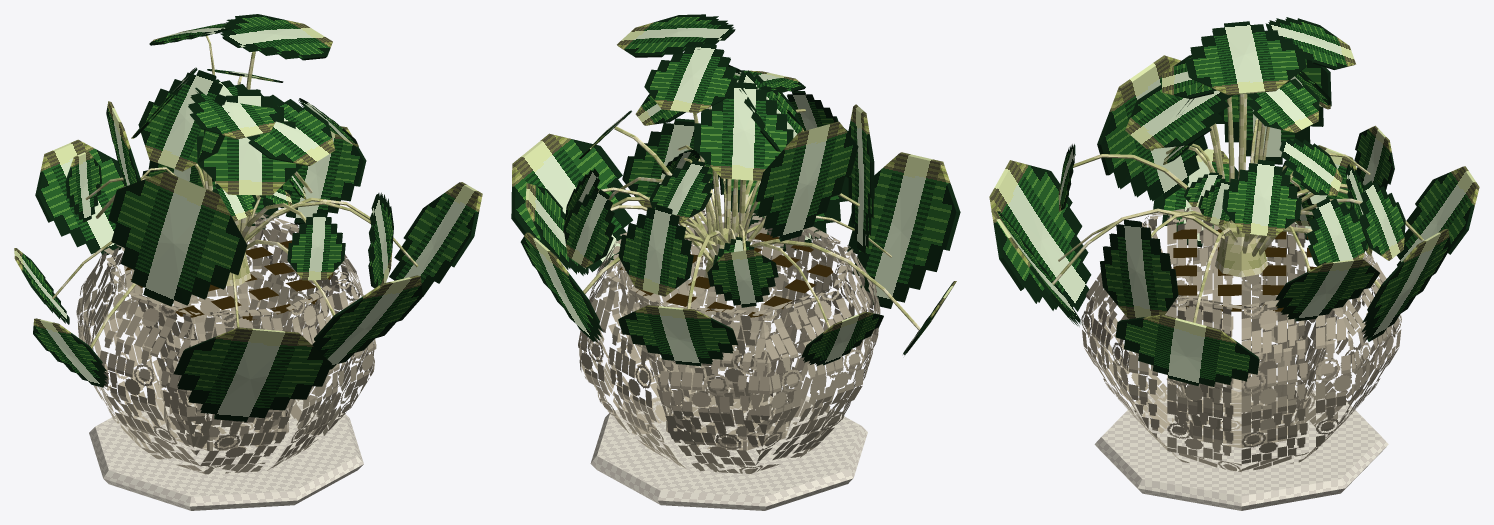
The model's file is pilea.obj.
3 renders of one model, left to right at view 1: azimuth 30°, elevation 25°; view 2: azimuth 150°, elevation 25°; view 3: azimuth 270°, elevation 25°, orthographic. The views are drawn at different scales.
Visible parts, largest first — view 1: Pot, Saucer, Leaf_010, Leaf_026, Leaf_014, Leaf_004, Leaf_025, Leaf_009, Leaf_006, Leaf_016, Leaf_000, Leaf_007 (+12 smaller); view 2: Pot, Saucer, Leaf_026, Leaf_022, Leaf_003, Leaf_014, Leaf_025, Leaf_030, Leaf_002, Leaf_000, Leaf_017, Leaf_008 (+14 smaller); view 3: Pot, Saucer, Leaf_026, Leaf_014, Leaf_000, Leaf_010, Leaf_008, Leaf_021, Leaf_007, Leaf_016, Leaf_025, Leaf_018 (+19 smaller).
Part boxes in pixels (<box>): Pot: <box>76,212,376,474</box>; Saucer: <box>89,391,363,510</box>; Leaf_010: <box>108,171,247,306</box>; Leaf_026: <box>173,327,331,421</box>; Leaf_014: <box>389,182,482,296</box>; Leaf_004: <box>138,70,229,171</box>; Leaf_025: <box>35,139,125,254</box>; Leaf_009: <box>312,275,422,369</box>; Leaf_006: <box>197,89,302,195</box>; Leaf_016: <box>281,126,366,224</box>; Leaf_000: <box>220,14,332,60</box>; Leaf_007: <box>247,94,335,165</box>; Pot: <box>578,210,880,473</box>; Saucer: <box>590,386,867,510</box>; Leaf_026: <box>847,152,960,308</box>; Leaf_022: <box>756,121,858,241</box>; Leaf_003: <box>693,82,793,180</box>; Leaf_014: <box>511,133,632,272</box>; Leaf_025: <box>618,305,737,366</box>; Leaf_030: <box>618,204,693,296</box>; Leaf_002: <box>644,43,737,113</box>; Leaf_000: <box>617,14,735,57</box>; Leaf_017: <box>707,249,778,307</box>; Leaf_008: <box>622,118,719,207</box>; Pot: <box>1081,207,1401,472</box>; Saucer: <box>1094,382,1388,510</box>; Leaf_026: <box>989,160,1091,311</box>; Leaf_014: <box>1115,314,1259,386</box>; Leaf_000: <box>1185,21,1306,95</box>; Leaf_010: <box>1097,55,1207,201</box>; Leaf_008: <box>1100,219,1178,318</box>; Leaf_021: <box>1222,159,1301,236</box>; Leaf_007: <box>1125,85,1233,149</box>; Leaf_016: <box>1276,258,1379,321</box>; Leaf_025: <box>1396,166,1479,266</box>; Leaf_018: <box>1361,229,1450,341</box>.
Size of the model in its own units: 3.81 by 3.55 by 3.67.
